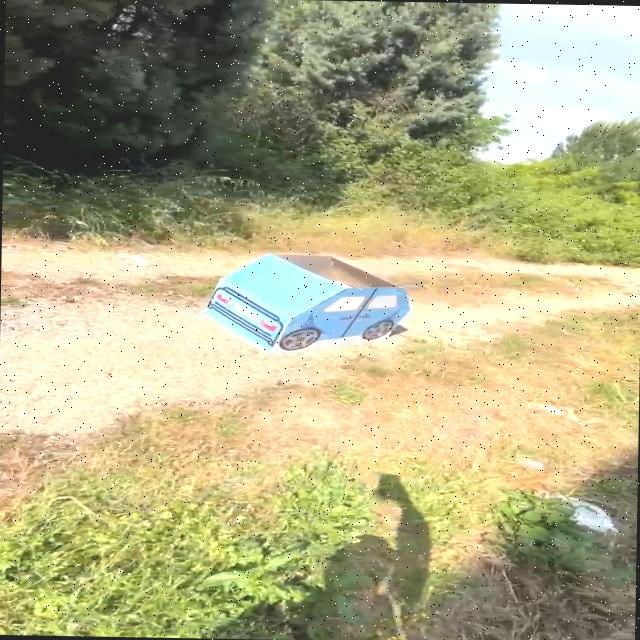blue_car: (186, 240, 430, 363)
